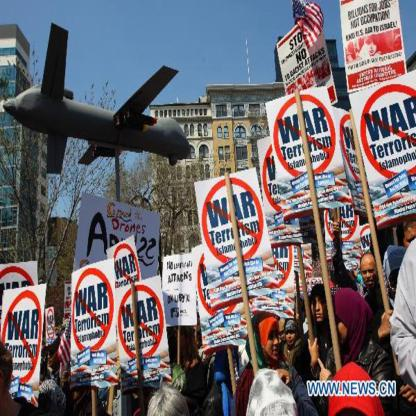face: (261, 324, 279, 362), (310, 285, 328, 322), (331, 314, 351, 346), (403, 225, 416, 263), (72, 367, 86, 398), (362, 263, 377, 288), (49, 345, 59, 367), (286, 327, 296, 344), (278, 323, 285, 342)
